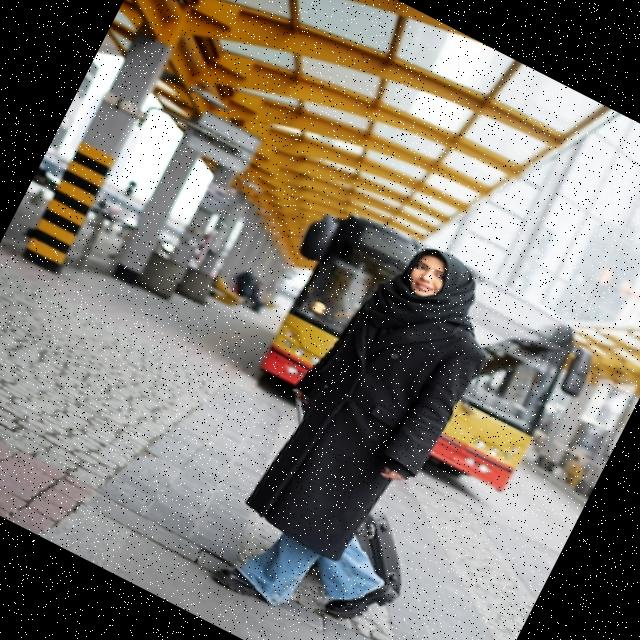Person: (201, 218, 549, 640)
